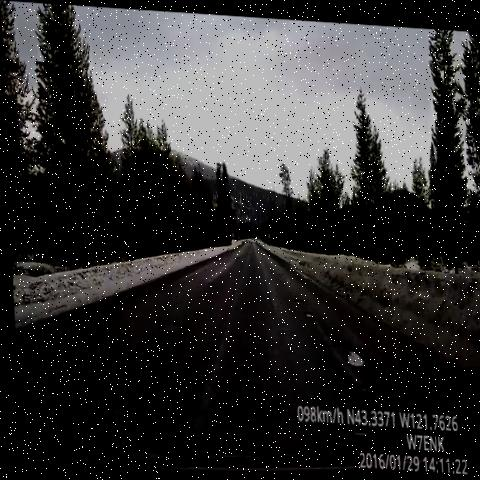pothole: (99, 340, 155, 416), (325, 328, 369, 374), (156, 308, 183, 339), (347, 369, 375, 394), (288, 285, 306, 306), (298, 301, 316, 316), (228, 246, 241, 264)
